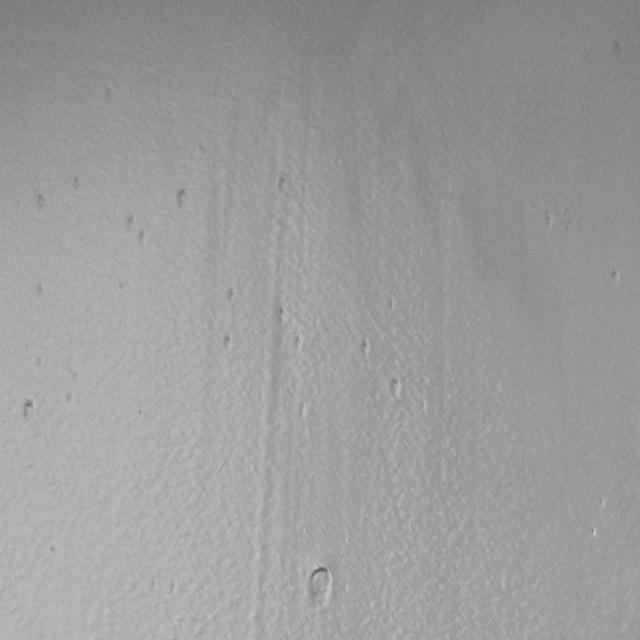pin holes: (304, 564, 337, 610), (19, 398, 40, 426), (173, 186, 194, 210), (273, 175, 292, 199), (358, 340, 376, 364), (609, 40, 628, 62), (388, 377, 406, 399), (295, 399, 311, 423), (35, 191, 50, 213), (608, 268, 624, 288), (224, 287, 240, 307), (221, 334, 236, 354), (124, 214, 138, 235), (274, 304, 288, 324), (62, 390, 76, 410), (70, 175, 84, 194), (292, 334, 306, 352), (136, 228, 149, 247), (544, 214, 557, 232), (36, 285, 49, 302), (587, 524, 599, 540), (169, 580, 178, 597), (50, 545, 60, 559)
